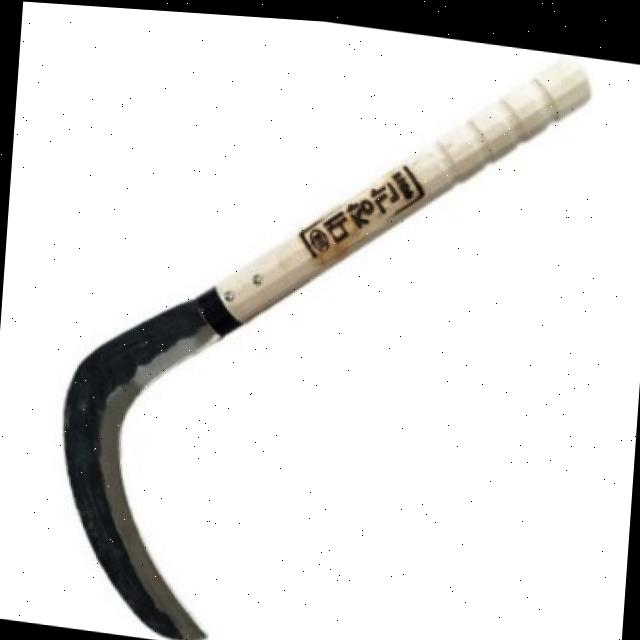sickle: (26, 1, 603, 640)
